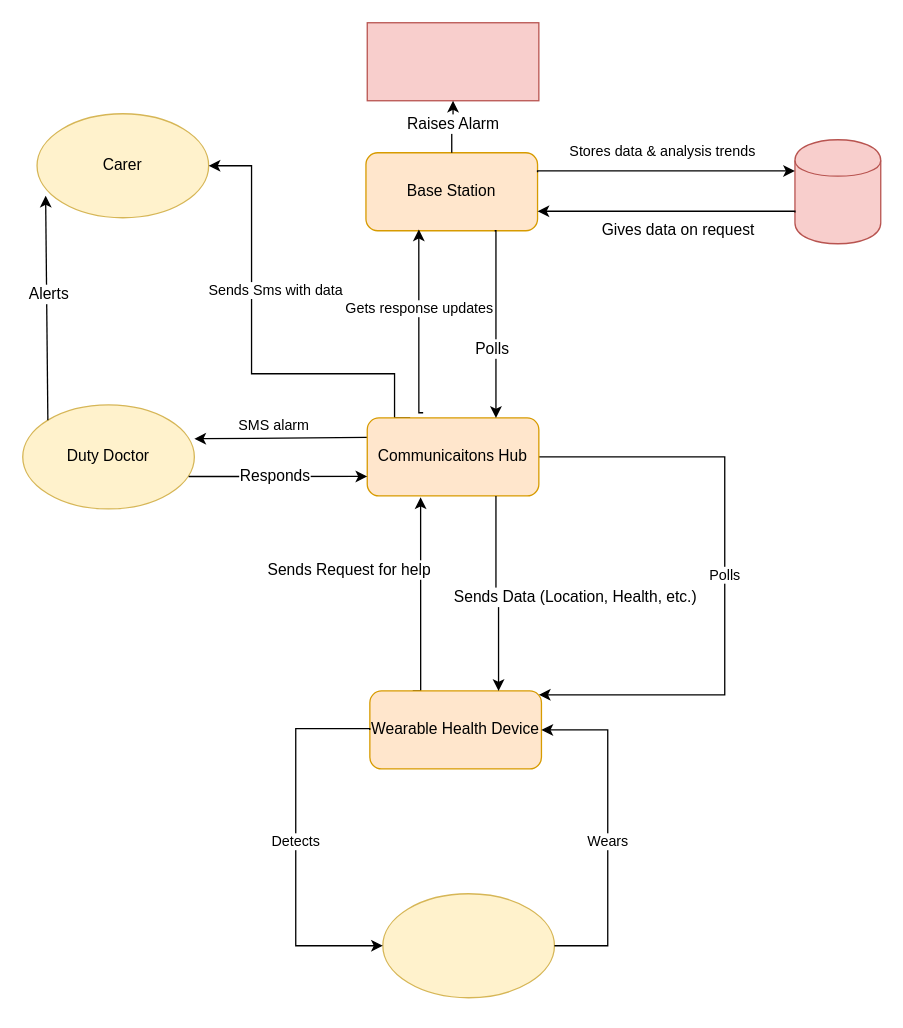
The diagram is 903 pixels wide and 1028 high, and some of its shapes have lost their labels. The shapes that lost their labels are listed below. From the top down, each one's box as (x1, y1, x2, y2) in pixels, then its label:
(366, 21, 539, 101): Alarm
(794, 138, 881, 244): DB
(382, 892, 554, 998): Patient
